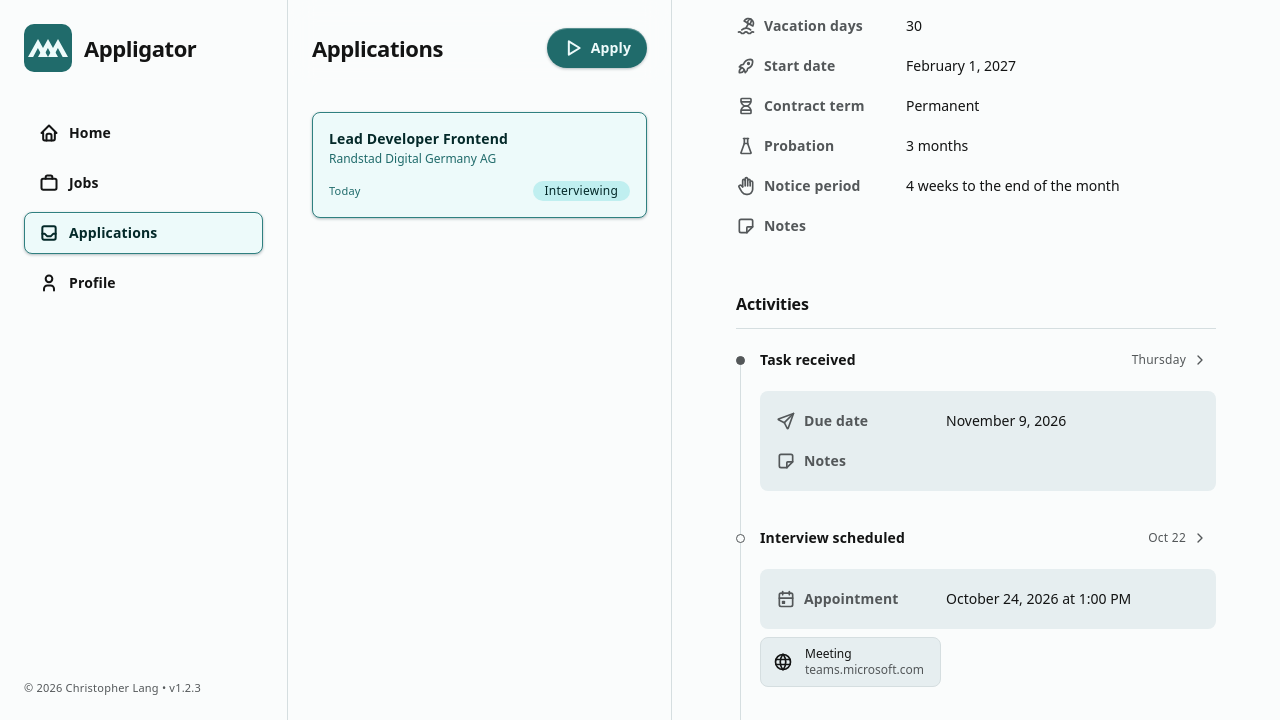
edits an activity
(page scrolled)
Click the button with aria-label "Edit Task received": (1168, 360) [1120, 346, 1216, 374]
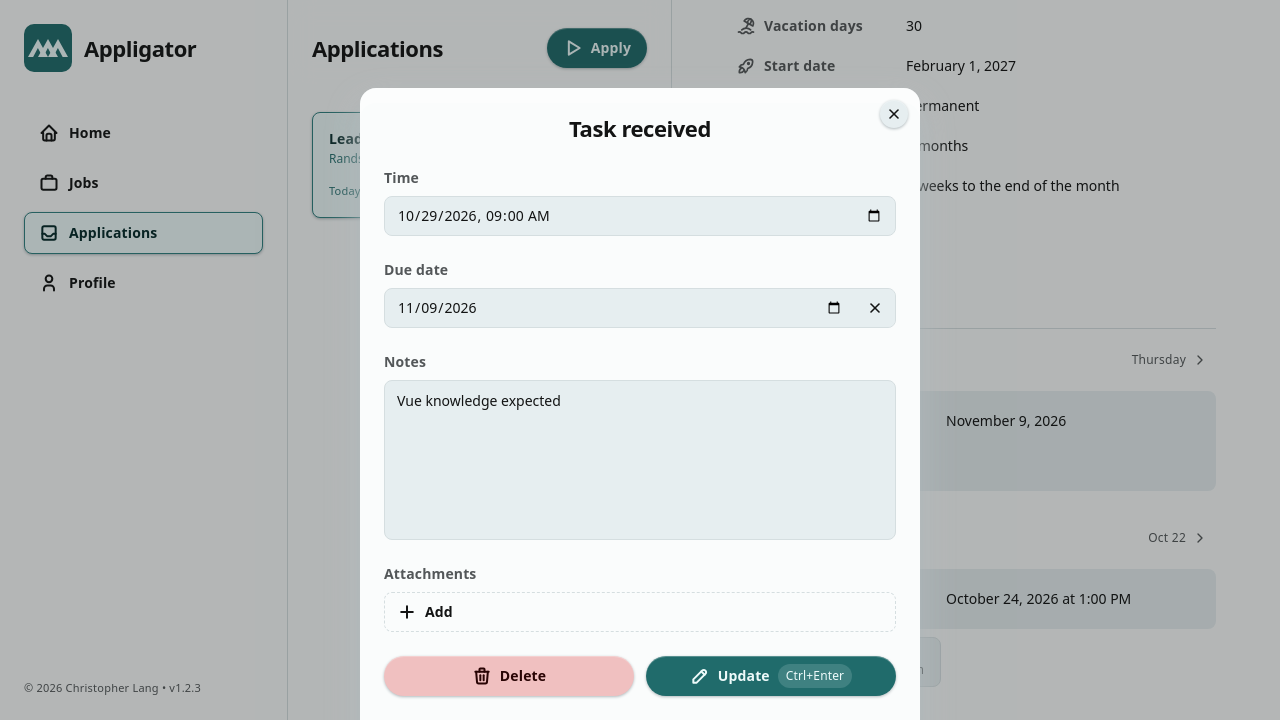
Expected: the date field labelled "Due date" holds "2026-11-09"
In the date field labelled "Due date": (640, 308) [384, 288, 896, 328], type "2026-11-12"
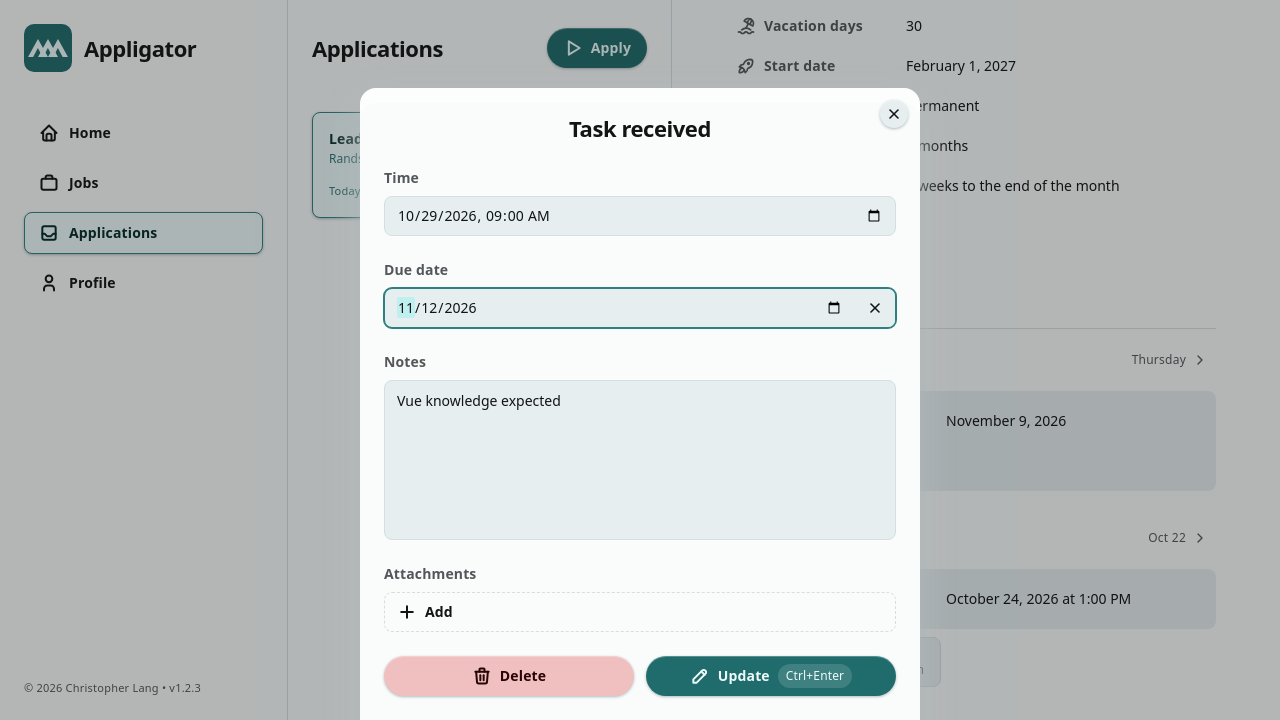
Click the button "Update Ctrl+Enter": (771, 676) [646, 656, 896, 696]
(page scrolled)
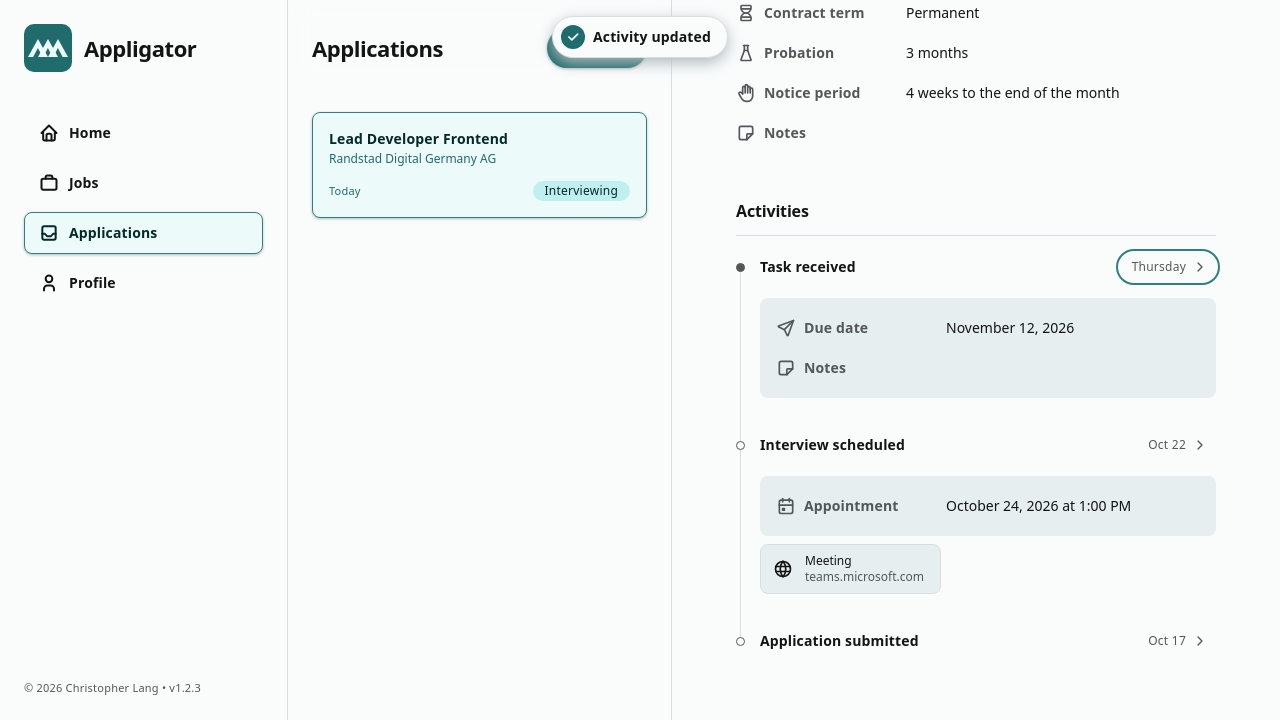
Expected: the heading "Activity updated" is shown, [593, 27, 711, 47]
